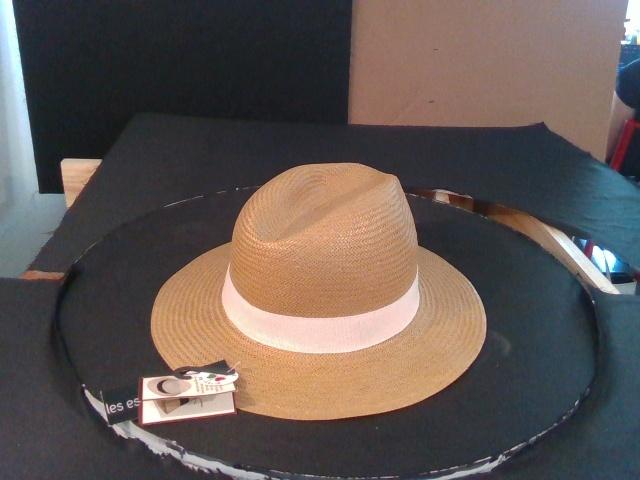hat: (148, 163, 488, 418)
